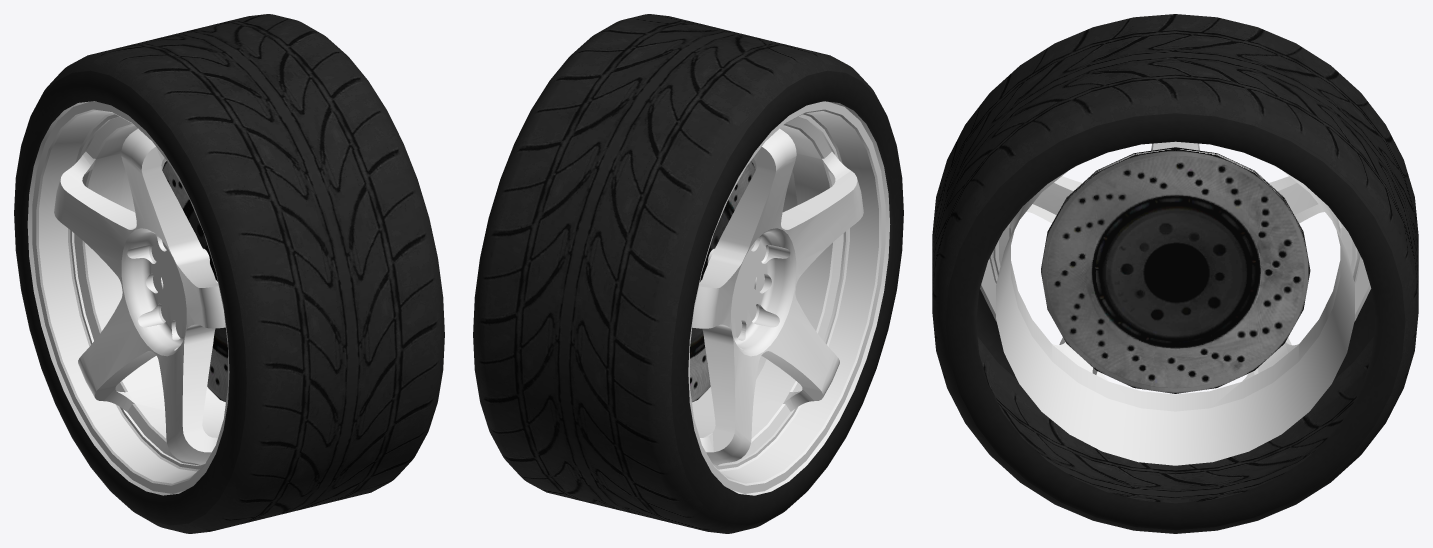
Rendered from 12_Rota_P45R.fbx.
3 renders of one model, left to right at view 1: azimuth 30°, elevation 25°; view 2: azimuth 150°, elevation 25°; view 3: azimuth 270°, elevation 25°, orthographic.
Visible parts, largest first — view 1: Combined No Name Object 0, Rota_P45R, Combined co_contisportcontact_2_vmax_wall Object 0, Rotor; view 2: Combined No Name Object 0, Rota_P45R, Combined co_contisportcontact_2_vmax_wall Object 0, Rotor; view 3: Combined No Name Object 0, Rotor, Combined co_contisportcontact_2_vmax_wall Object 0, Rota_P45R.
Boxes of the visible parts, x1,y1,x2,y2 form: Combined No Name Object 0: (14, 14, 444, 533); Rota_P45R: (27, 101, 229, 495); Combined co_contisportcontact_2_vmax_wall Object 0: (14, 70, 246, 525); Rotor: (162, 161, 227, 402); Combined No Name Object 0: (473, 14, 903, 533); Rota_P45R: (688, 101, 890, 495); Combined co_contisportcontact_2_vmax_wall Object 0: (671, 70, 903, 525); Rotor: (690, 161, 755, 402); Combined No Name Object 0: (932, 14, 1418, 533); Rotor: (1041, 147, 1310, 393); Combined co_contisportcontact_2_vmax_wall Object 0: (945, 113, 1405, 530); Rota_P45R: (980, 141, 1371, 465).
Size of the model in its own units: 0.3334 by 0.688 by 0.688.
